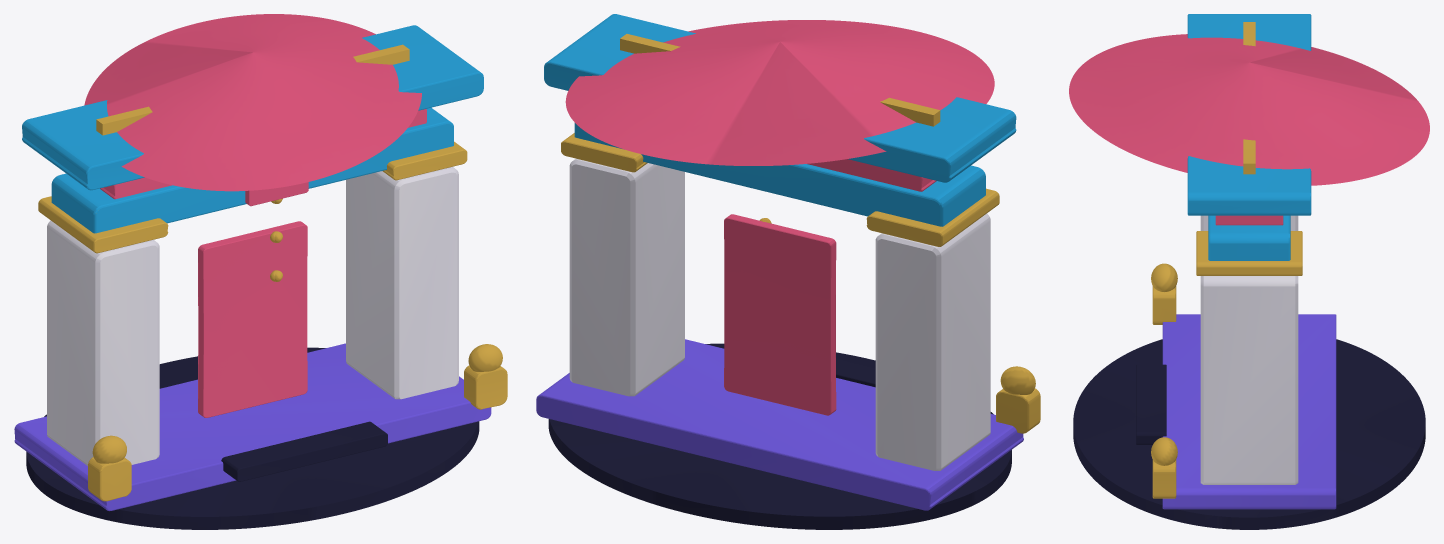
File: 0819_中国建筑图鉴_世博会中国馆.glb
The picture shows the model from 3 angles, left to right: view 1: azimuth 30°, elevation 25°; view 2: azimuth 150°, elevation 25°; view 3: azimuth 270°, elevation 25°; orthographic projection. The views are drawn at different scales.
Visible parts, largest first — view 1: card_0819; view 2: card_0819; view 3: card_0819.
Boxes of the visible parts, <box> form: card_0819: <box>14,14,507,529</box>; card_0819: <box>536,14,1040,529</box>; card_0819: <box>1069,14,1429,529</box>.
Bounding box in the file's own units: 1.1 × 1 × 0.8794.
